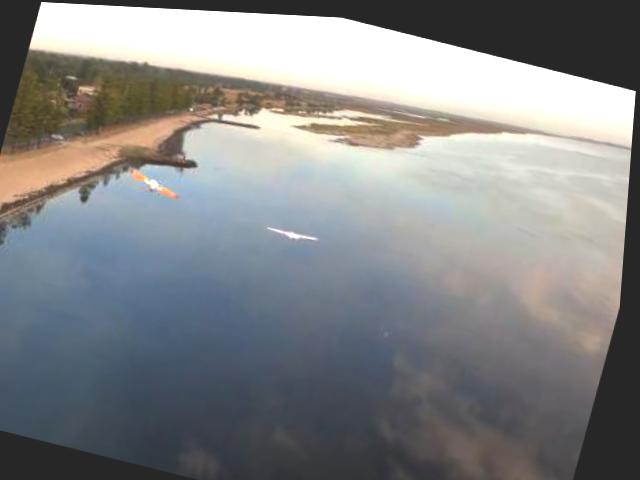uav: (126, 159, 187, 206), (265, 212, 325, 244)
